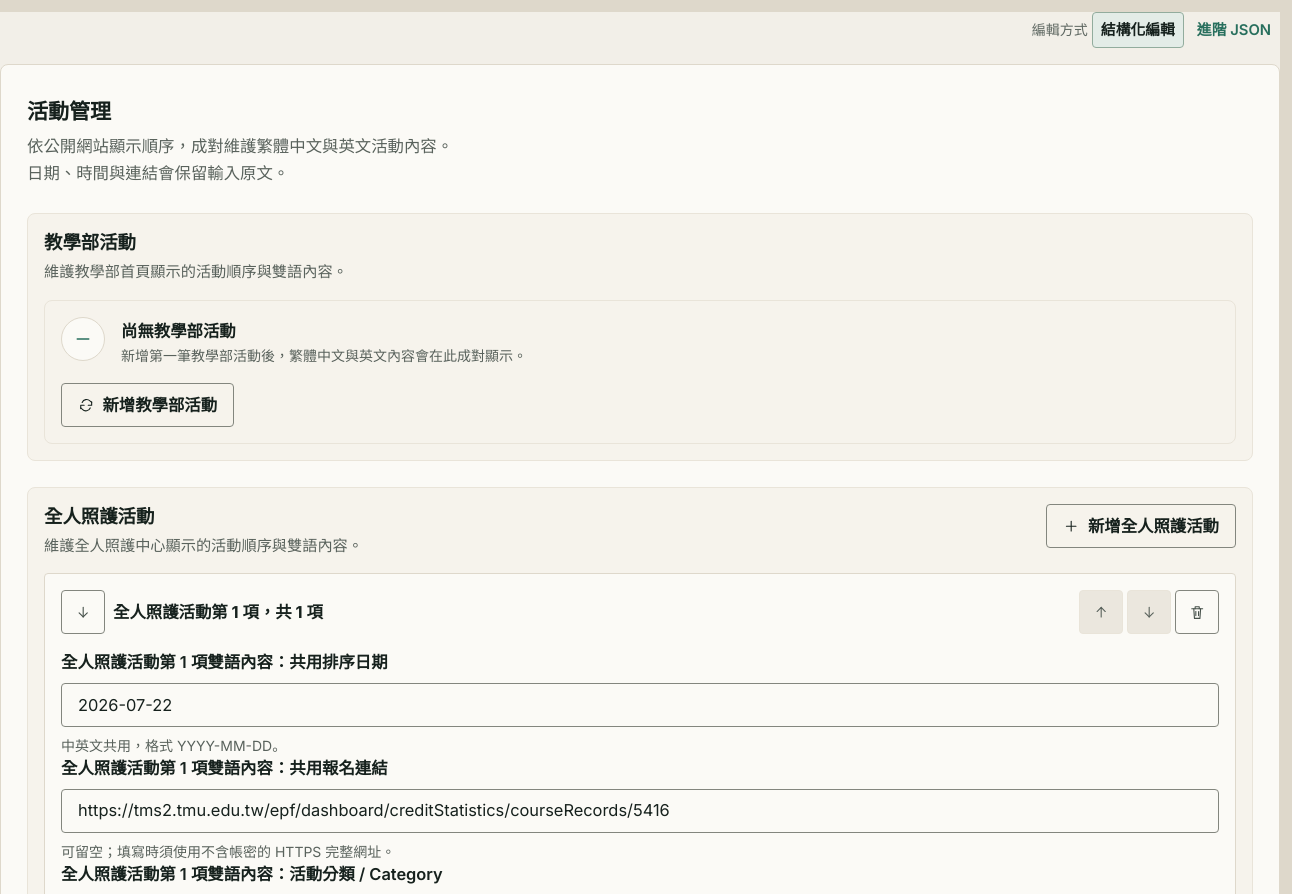
Test case: editable global boundary › keeps a newly added blank-date activity structured with inline feedback
Click the button "新增教學部活動".
click(148, 405)  # box top-left (61, 383), bottom-right (234, 427)
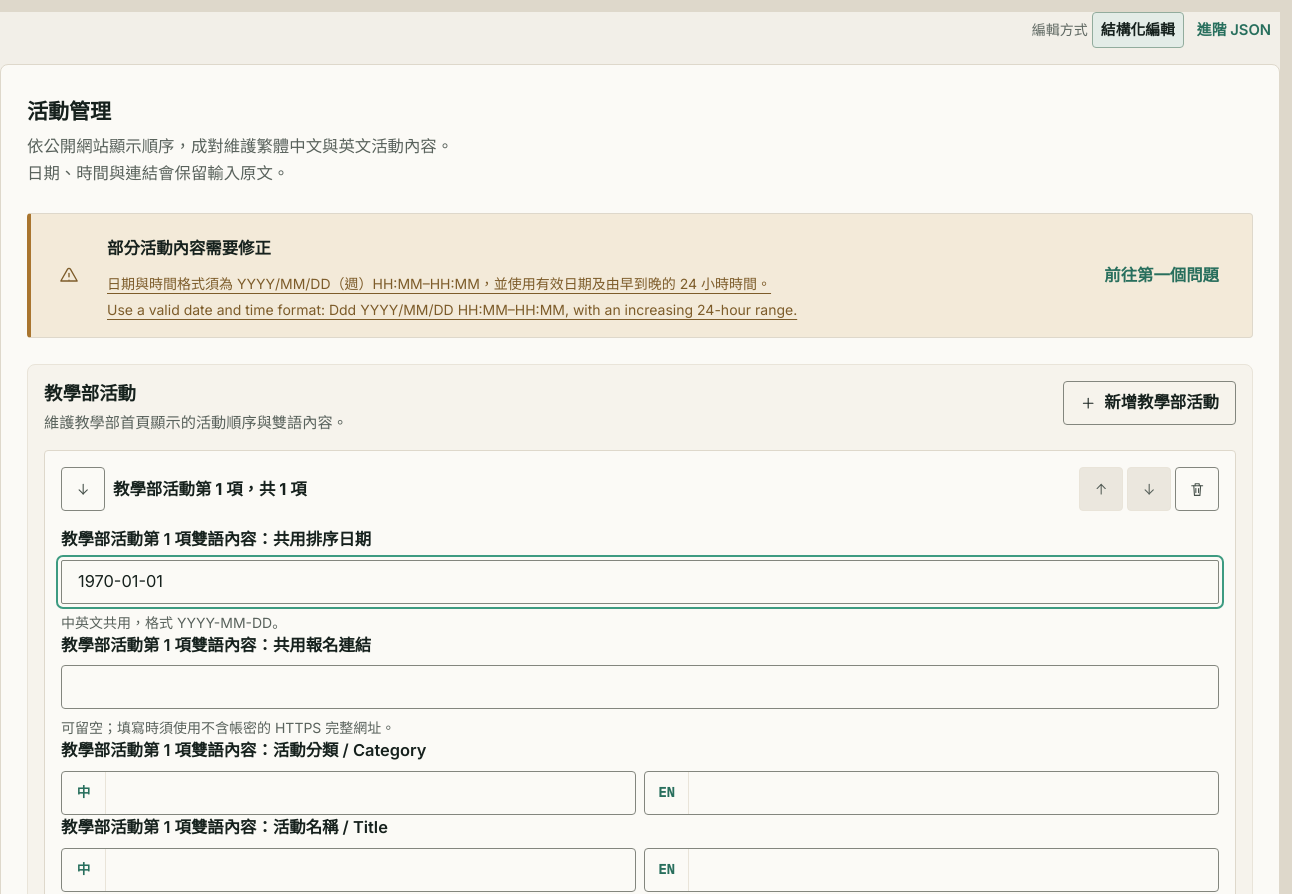
Expected: the heading "活動管理" is shown, top-left (27, 99), bottom-right (111, 124)
Expected: the link "日期與時間格式須為 YYYY/MM/DD（週）HH:MM–HH:MM，並使用有效日期及由早到晚的 24 小時時間。" is shown, top-left (107, 275), bottom-right (771, 292)
